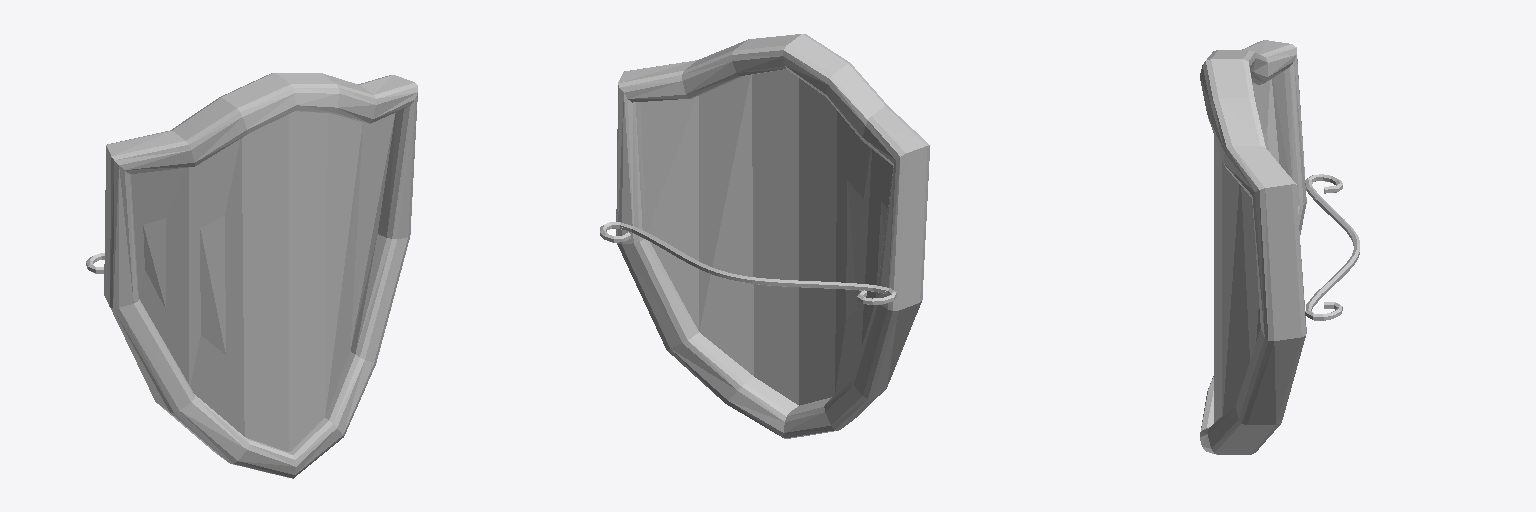
The model's file is metalshield_02.obj.
The picture shows the model from 3 angles: view 1: azimuth 30°, elevation 25°; view 2: azimuth 150°, elevation 25°; view 3: azimuth 270°, elevation 25°; orthographic projection.
Parts seen in each view (by area): view 1: shieldMesh; view 2: shieldMesh; view 3: shieldMesh.
Boxes of the visible parts, <box> form: shieldMesh: <box>86,73,417,478</box>; shieldMesh: <box>600,34,929,438</box>; shieldMesh: <box>1200,40,1359,454</box>.
Size of the model in its own units: 18.88 by 23.37 by 8.65.